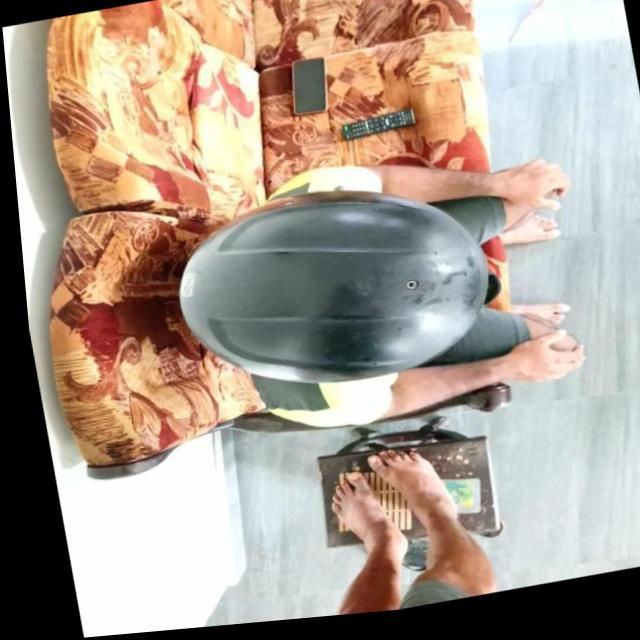helmet: (159, 177, 498, 412)
